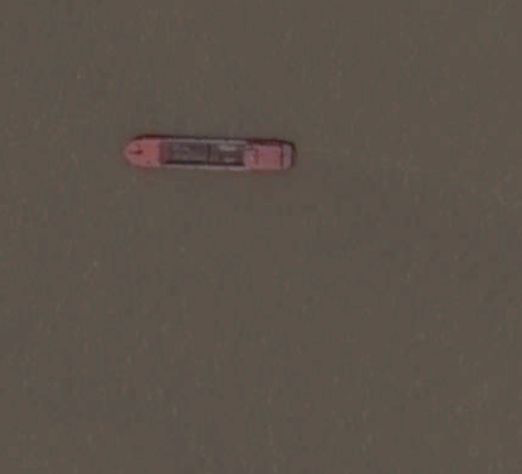boat: (120, 135, 298, 174)
